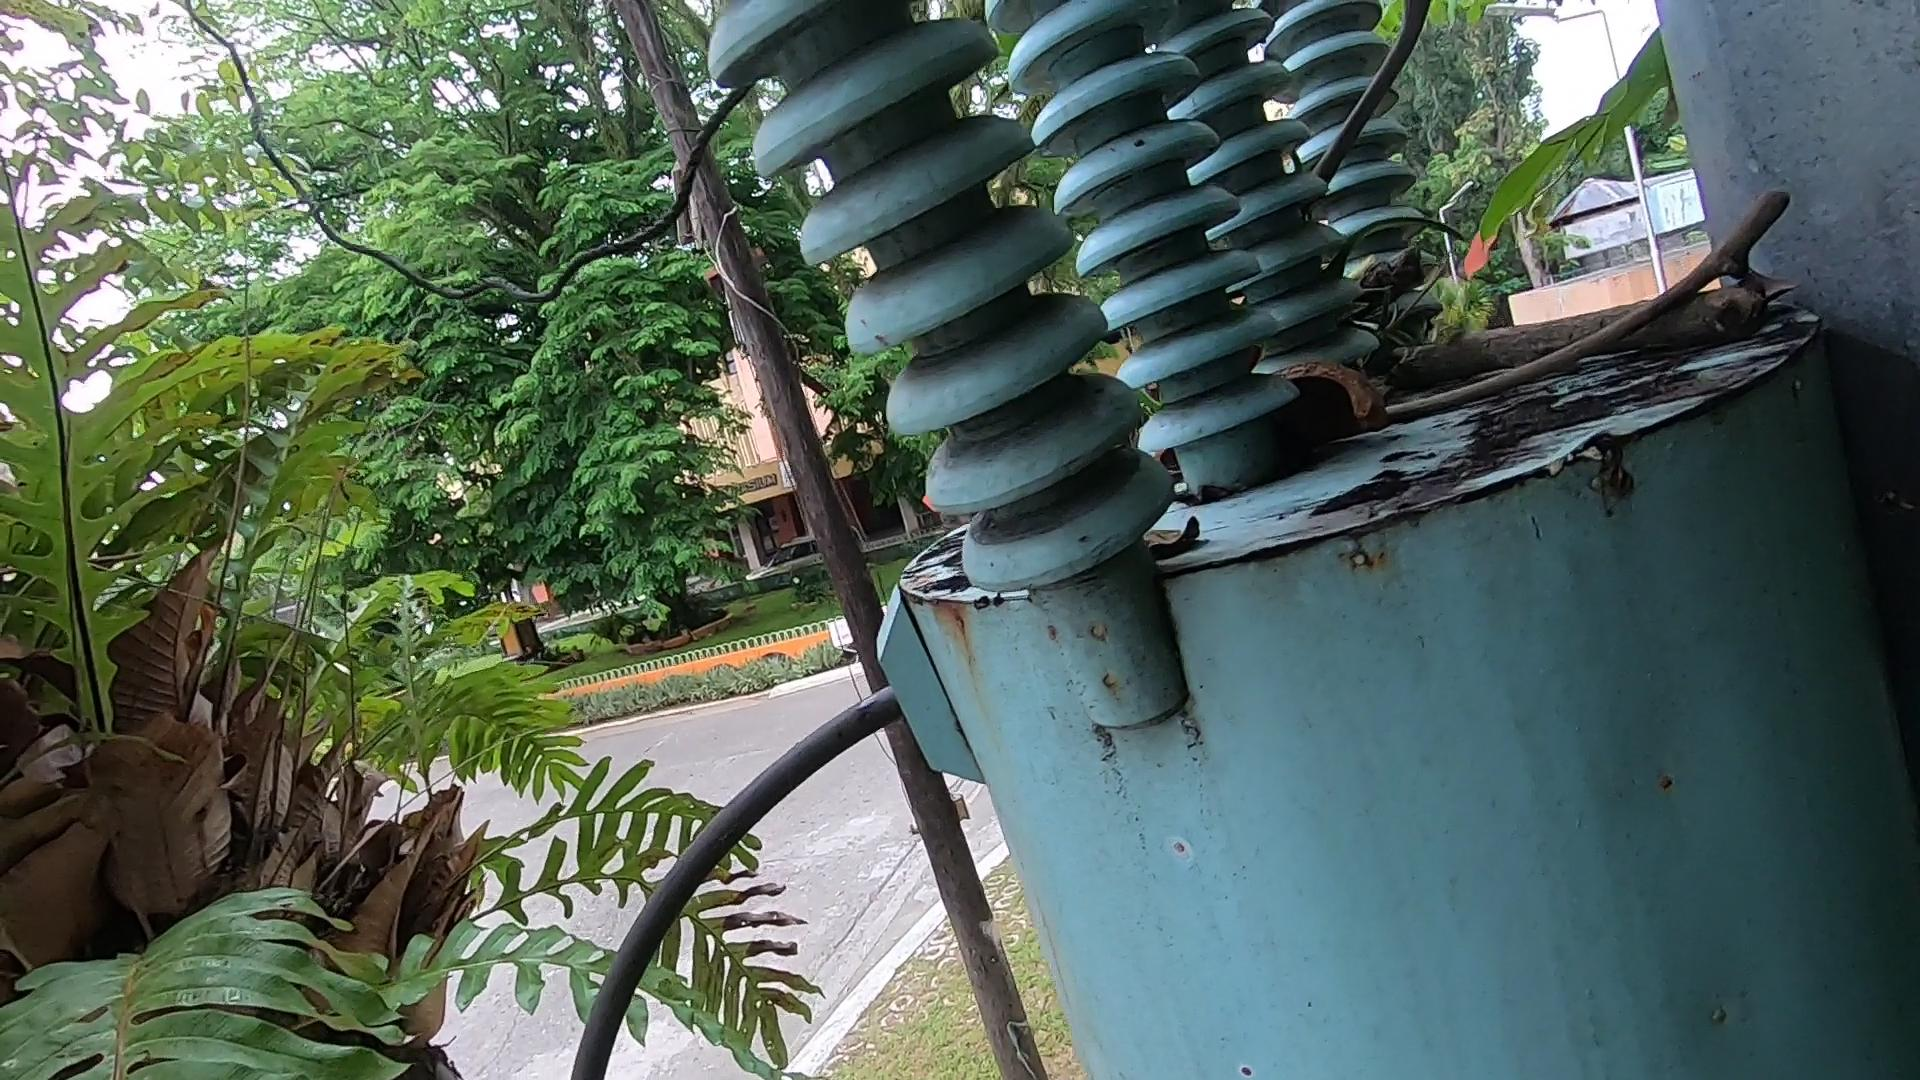branch with leaves: (1313, 211, 1795, 371)
leaf: (1137, 516, 1208, 593)
mahogany fruit: (1269, 338, 1464, 463)
tree branch: (1400, 193, 1807, 436), (1304, 1, 1440, 196)
